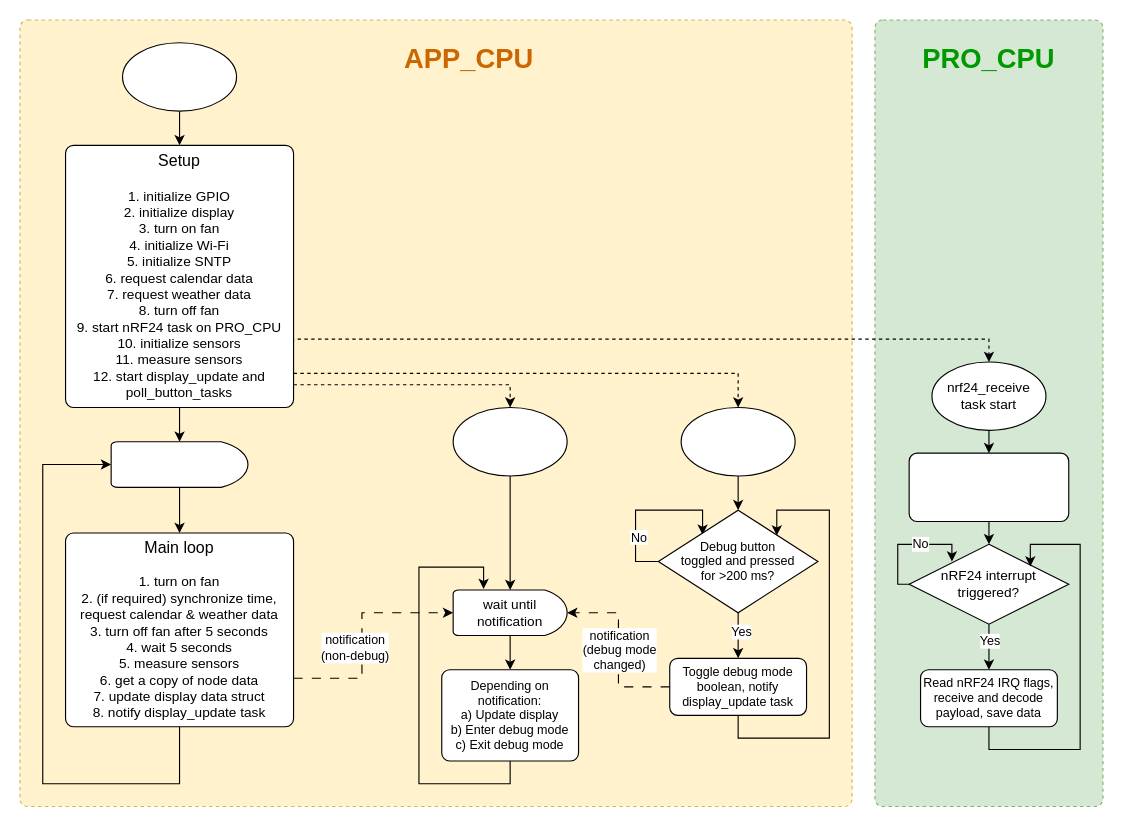
Image size: 1123x827. Some labels were removed from this diagram. Here are the shapes that lost their labels. From the top down, the centre of each, then its label:
At point 179,76: "Program start".
At point 509,441: "display_update task start".
At point 737,441: "poll_button task start".
At point 179,464: "wait until 1 minute elapsed".
At point 988,487: "1. initialize GPIO 2. initialize SPI 3. initialize nRF24 (primary receiver mode)".
